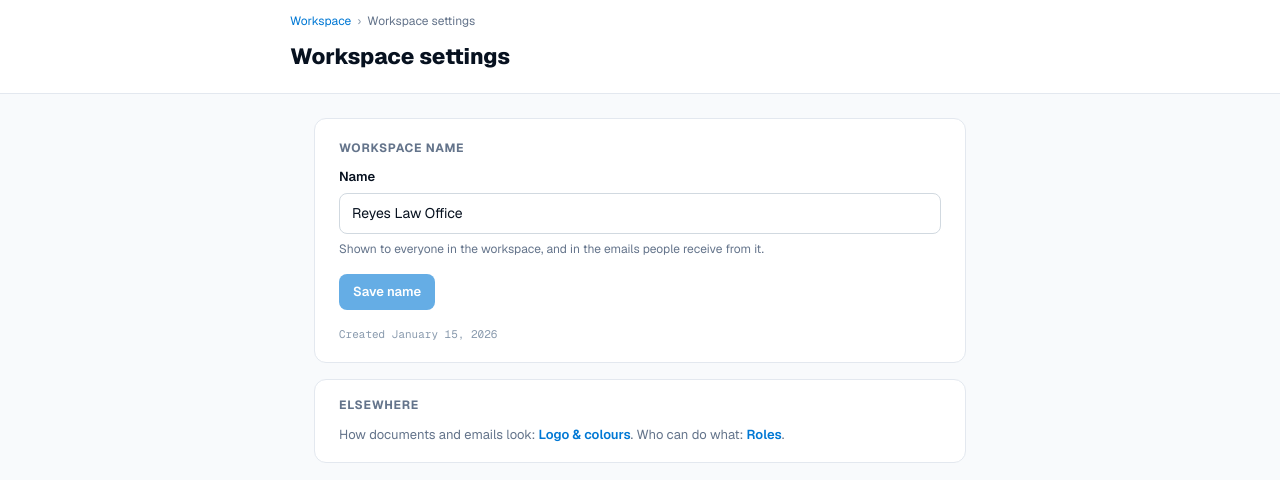
Test: Workspace settings — rename › renames through PATCH and updates the session, with no fake toggles
This screenshot has width=1280, height=480.
Replace the text in the field labelled "Name" with "Reyes & Partners" at point(640, 213), box [339,192,941,234]
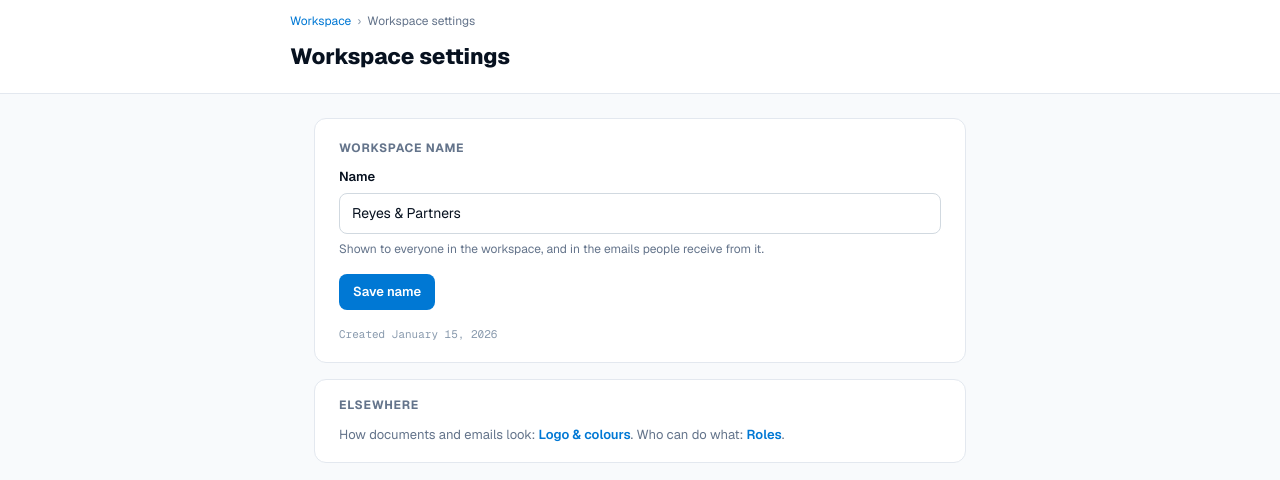
Click the button "Save name" at point(387, 292), box [339,274,435,310]
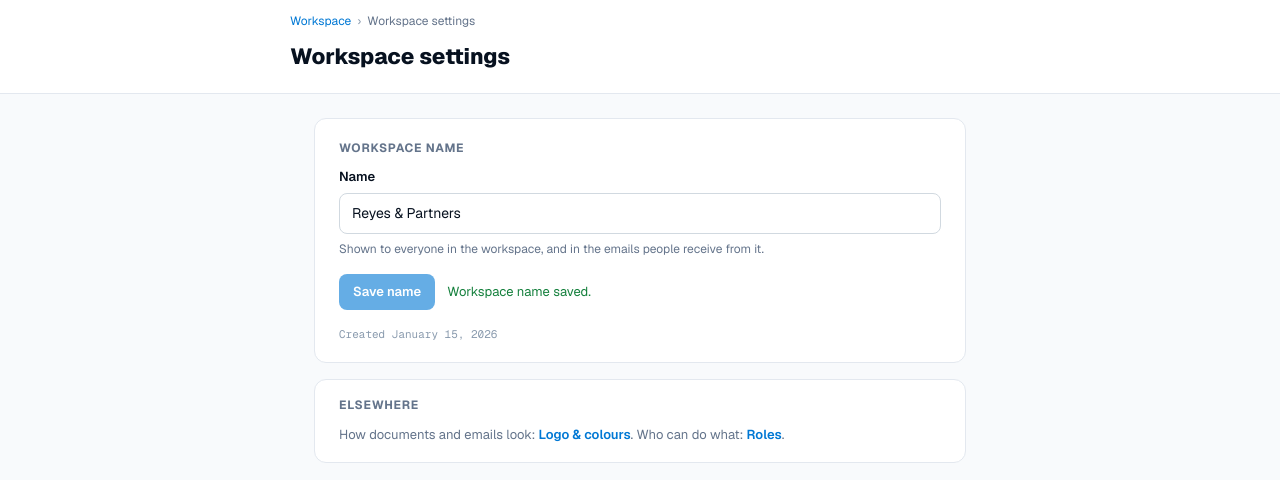
expect the message reads "Workspace name saved.": met, box [447,283,591,300]
